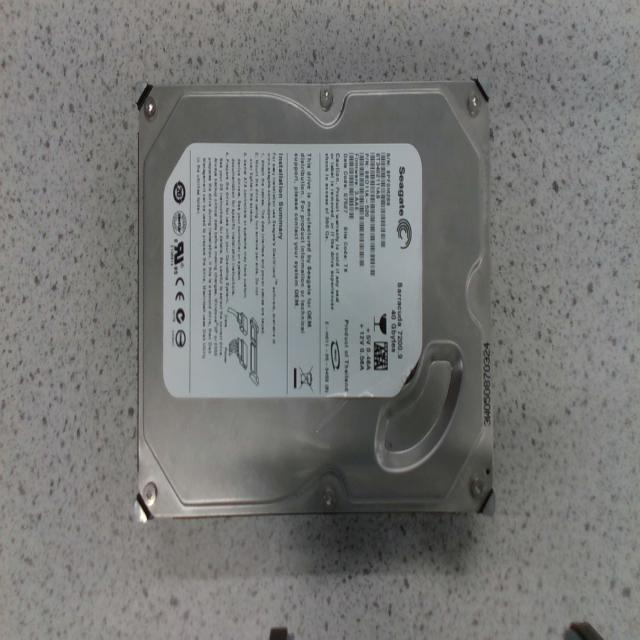label: (164, 144, 422, 396)
lid: (134, 81, 494, 523)
screw: (470, 476, 492, 504), (143, 483, 157, 507), (144, 96, 156, 121), (320, 87, 333, 110), (468, 94, 481, 116), (324, 487, 335, 507)
